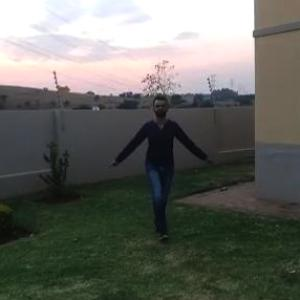land: (117, 98, 204, 224)
